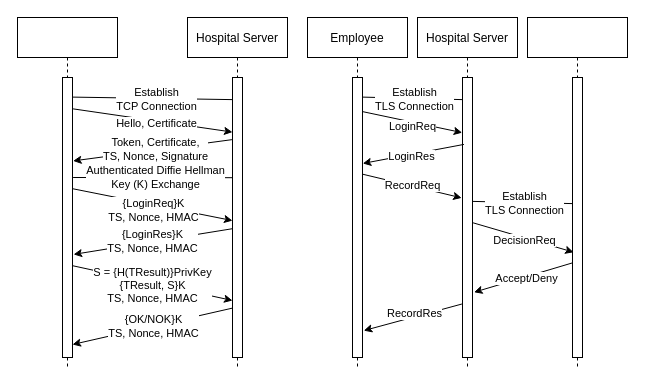
Some shapes in this 645 by 385 pixel diagram are drawn without their labels. Each missing label, with the box of its shape:
Partner Lab: (16, 16, 118, 368)
Policy Authoring: (526, 16, 628, 368)
